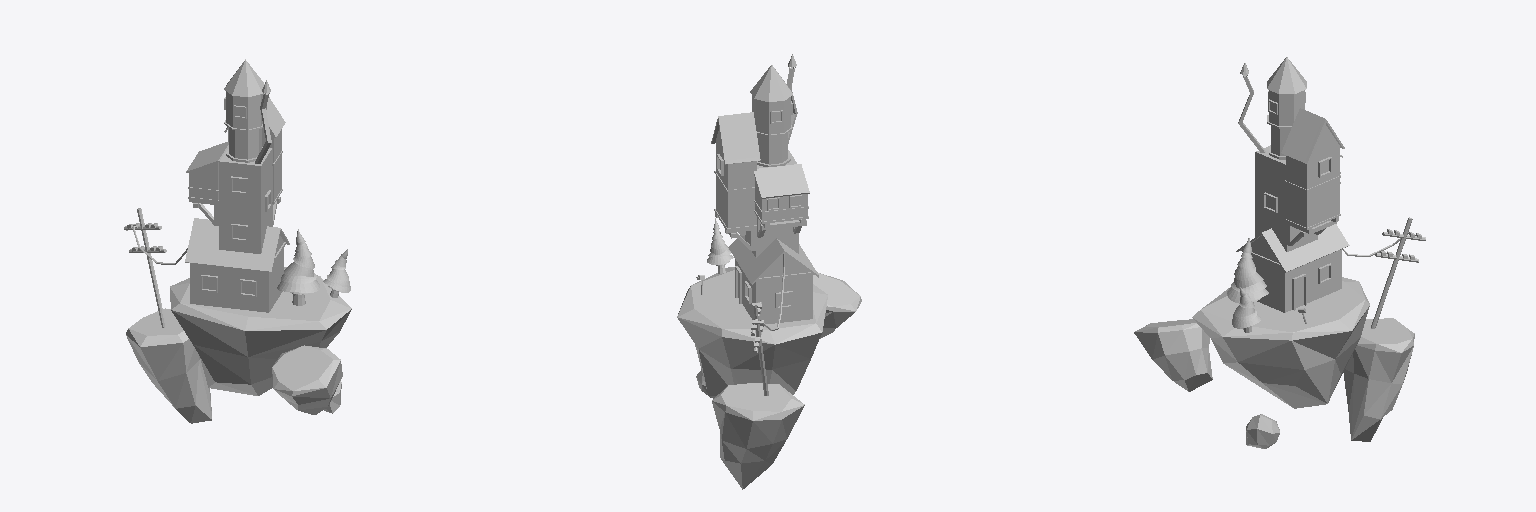
The model's file is House_Island.obj.
3 views of the same model, side by side, from view 1: azimuth 30°, elevation 25°; view 2: azimuth 150°, elevation 25°; view 3: azimuth 270°, elevation 25° (orthographic).
Parts seen in each view (by area): view 1: Box056, Box057, Box066, Box058, Box061, Box060, Cylinder003, Box087, Cylinder004, Box085, Box088, Cylinder006; view 2: Box056, Box057, Box061, Box085, Cylinder003, Box084, Box060, Box058, Box088, Box087, Cylinder004, Box066; view 3: Box056, Box057, Box085, Box058, Box061, Box066, Box060, Box084, Cylinder003, Cylinder004, Sphere001, Cylinder006.
Boxes of the visible parts, x1,y1,x2,y2 form: Box056: [170, 267, 351, 395]; Box057: [126, 308, 211, 423]; Box066: [219, 147, 272, 253]; Box058: [272, 345, 342, 414]; Box061: [190, 236, 285, 312]; Box060: [185, 218, 289, 271]; Cylinder003: [224, 91, 263, 162]; Box087: [188, 162, 218, 201]; Cylinder004: [224, 59, 264, 96]; Box085: [228, 127, 282, 203]; Box088: [186, 142, 228, 172]; Cylinder006: [137, 208, 165, 327]; Box056: [677, 267, 827, 398]; Box057: [712, 383, 804, 489]; Box061: [735, 254, 813, 323]; Box085: [714, 129, 756, 230]; Cylinder003: [752, 96, 792, 166]; Box084: [711, 112, 760, 164]; Box060: [728, 235, 818, 284]; Box058: [813, 272, 861, 338]; Box088: [754, 164, 809, 198]; Box087: [754, 179, 808, 223]; Cylinder004: [750, 65, 792, 101]; Box066: [745, 150, 798, 257]; Box056: [1192, 277, 1369, 408]; Box057: [1343, 318, 1414, 441]; Box085: [1285, 124, 1340, 229]; Box058: [1134, 319, 1212, 391]; Box061: [1241, 236, 1341, 312]; Box066: [1255, 145, 1317, 251]; Box060: [1236, 224, 1349, 272]; Box084: [1281, 108, 1344, 163]; Cylinder003: [1267, 90, 1304, 159]; Cylinder004: [1267, 57, 1306, 93]; Sphere001: [1246, 414, 1279, 448]; Cylinder006: [1371, 217, 1412, 328].
Bounding box in the file's own units: 53.68 × 131 × 88.85.